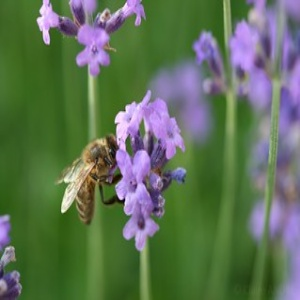bee: (54, 132, 121, 232)
